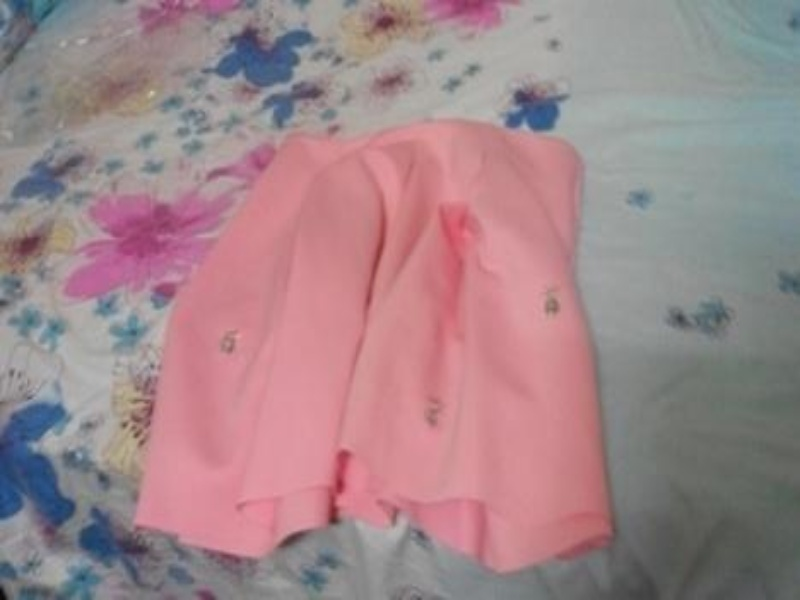skirt: (132, 121, 615, 577)
